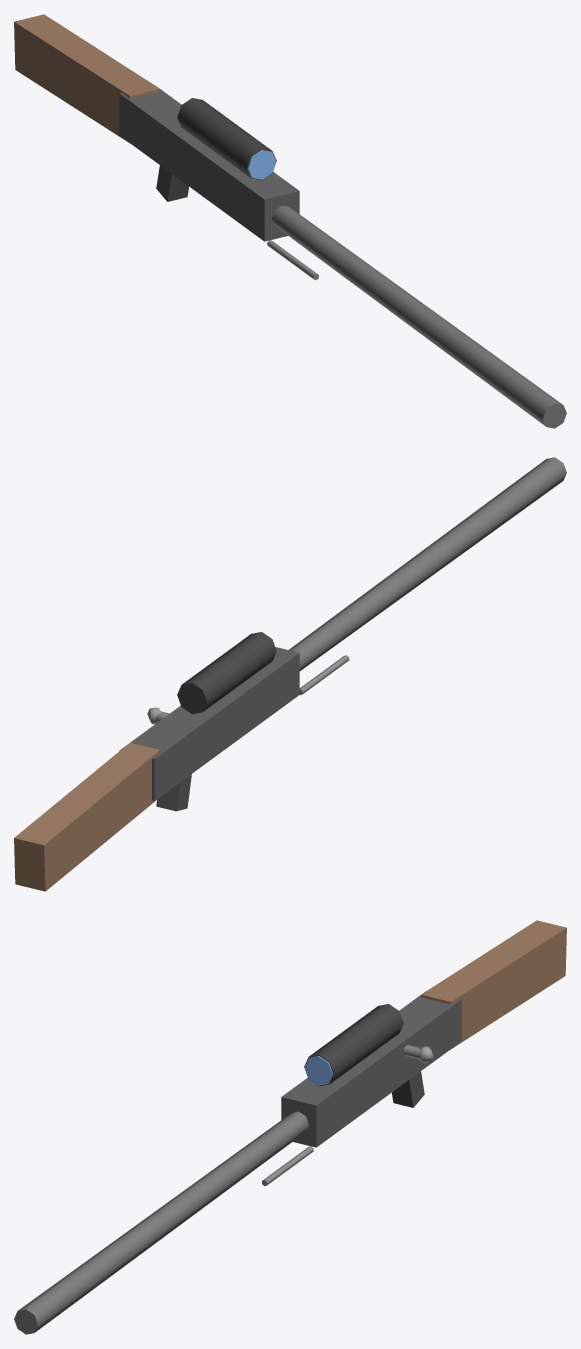
Rendered from weapon_sniper.glb.
3 renders of one model, top to bottom at view 1: azimuth 30°, elevation 25°; view 2: azimuth 150°, elevation 25°; view 3: azimuth 330°, elevation 25°, orthographic.
Visible parts, largest first — view 1: body, barrel, stock, scope, grip, lens; view 2: stock, body, barrel, scope, grip; view 3: body, barrel, stock, scope, grip, lens.
Boxes of the visible parts, left/top/right/bottom form: body: left=119, top=85, right=299, bottom=241; barrel: left=272, top=205, right=566, bottom=428; stock: left=14, top=14, right=159, bottom=143; scope: left=177, top=98, right=276, bottom=180; grip: left=156, top=165, right=188, bottom=201; lens: left=248, top=150, right=276, bottom=179; stock: left=14, top=742, right=159, bottom=891; body: left=119, top=647, right=299, bottom=800; barrel: left=289, top=457, right=566, bottom=671; scope: left=177, top=632, right=276, bottom=714; grip: left=156, top=774, right=191, bottom=811; body: left=281, top=991, right=461, bottom=1147; barrel: left=14, top=1111, right=308, bottom=1334; stock: left=421, top=920, right=566, bottom=1049; scope: left=304, top=1004, right=403, bottom=1086; grip: left=392, top=1071, right=424, bottom=1107; lens: left=304, top=1056, right=332, bottom=1085.
Size of the model in its own units: 0.1868 by 0.3206 by 2.72.
